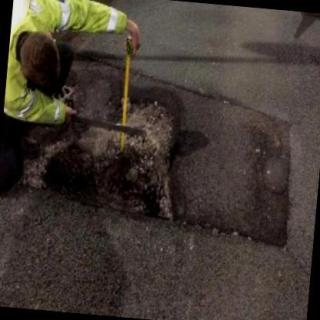pothole: (44, 147, 164, 218)
